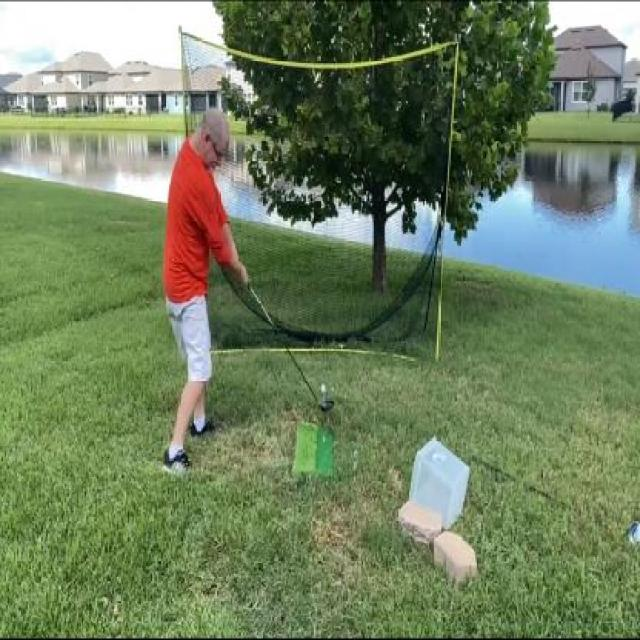club head: (315, 398, 337, 416)
